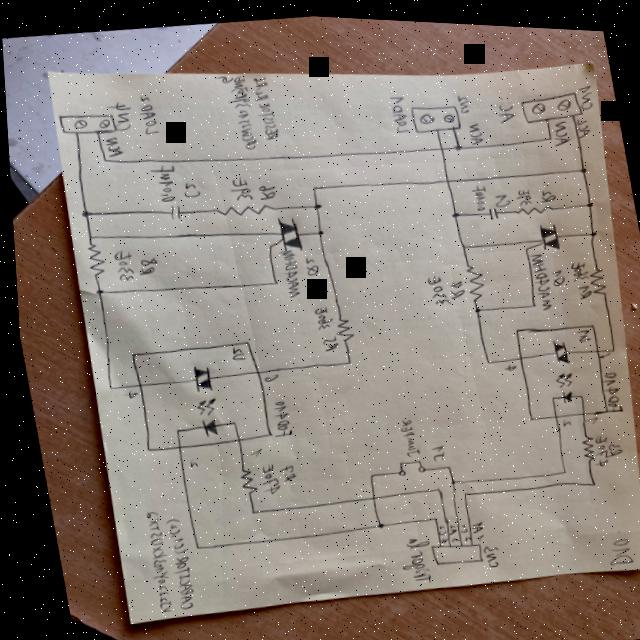capacitor: (164, 200, 182, 219), (484, 199, 499, 215)
crossover: (434, 138, 446, 147), (363, 489, 372, 497), (441, 171, 450, 179)
junction: (77, 207, 90, 217), (450, 137, 463, 146), (91, 285, 102, 295), (98, 153, 109, 163), (469, 299, 480, 309), (311, 224, 323, 233), (309, 197, 320, 206), (447, 205, 459, 213), (577, 158, 587, 167), (583, 193, 592, 202), (584, 223, 595, 230), (583, 473, 592, 481), (268, 275, 277, 283), (340, 354, 349, 362), (361, 467, 370, 475), (186, 541, 196, 548), (242, 505, 252, 512), (370, 517, 379, 524), (443, 473, 452, 480), (308, 180, 317, 187), (457, 237, 466, 244), (102, 382, 111, 389), (480, 352, 489, 359), (82, 231, 91, 238), (429, 481, 437, 488), (425, 510, 433, 517), (555, 462, 563, 469), (605, 340, 613, 347), (527, 295, 535, 302), (455, 486, 464, 492), (439, 459, 447, 465), (544, 129, 551, 134)
resistor: (211, 195, 277, 218), (459, 255, 485, 298), (81, 238, 105, 276), (583, 258, 606, 291), (510, 195, 553, 212), (328, 311, 352, 339), (232, 463, 252, 492), (574, 427, 593, 457)
switch: (389, 452, 422, 472)
terminal: (514, 81, 584, 122), (405, 93, 463, 132), (54, 105, 116, 138), (422, 532, 478, 562)
text: (135, 506, 172, 612), (213, 67, 258, 150), (156, 513, 192, 610), (388, 529, 431, 583), (248, 68, 281, 138), (526, 244, 553, 306), (144, 157, 179, 201), (273, 244, 302, 297), (133, 91, 160, 134), (106, 244, 135, 282), (595, 364, 620, 407), (262, 394, 288, 435), (103, 97, 134, 131), (392, 412, 416, 455), (386, 89, 411, 130), (421, 267, 450, 301), (251, 458, 277, 493), (225, 171, 253, 199), (584, 426, 607, 460), (306, 300, 331, 327), (549, 112, 571, 141), (574, 75, 596, 104), (468, 177, 487, 207), (464, 114, 485, 141), (132, 252, 157, 274), (475, 537, 495, 564), (100, 133, 123, 156), (494, 96, 515, 119), (271, 459, 293, 480), (254, 178, 277, 197), (573, 109, 592, 132), (443, 273, 463, 294), (565, 253, 585, 274), (299, 251, 318, 273), (179, 178, 200, 197), (454, 86, 471, 109), (547, 259, 564, 282), (317, 332, 338, 349), (424, 438, 442, 457), (512, 182, 531, 200), (225, 341, 243, 359), (490, 186, 510, 202), (572, 277, 590, 294), (570, 321, 588, 336), (602, 435, 619, 450), (537, 181, 555, 195), (463, 515, 478, 529), (241, 444, 259, 455), (259, 369, 276, 380), (119, 387, 134, 398), (499, 356, 515, 366), (440, 517, 452, 530), (429, 517, 441, 530), (182, 456, 195, 467), (581, 408, 595, 418), (452, 517, 463, 528), (467, 527, 479, 537), (594, 344, 607, 352), (556, 412, 567, 421), (431, 531, 443, 538), (456, 529, 466, 536), (444, 531, 453, 538)
